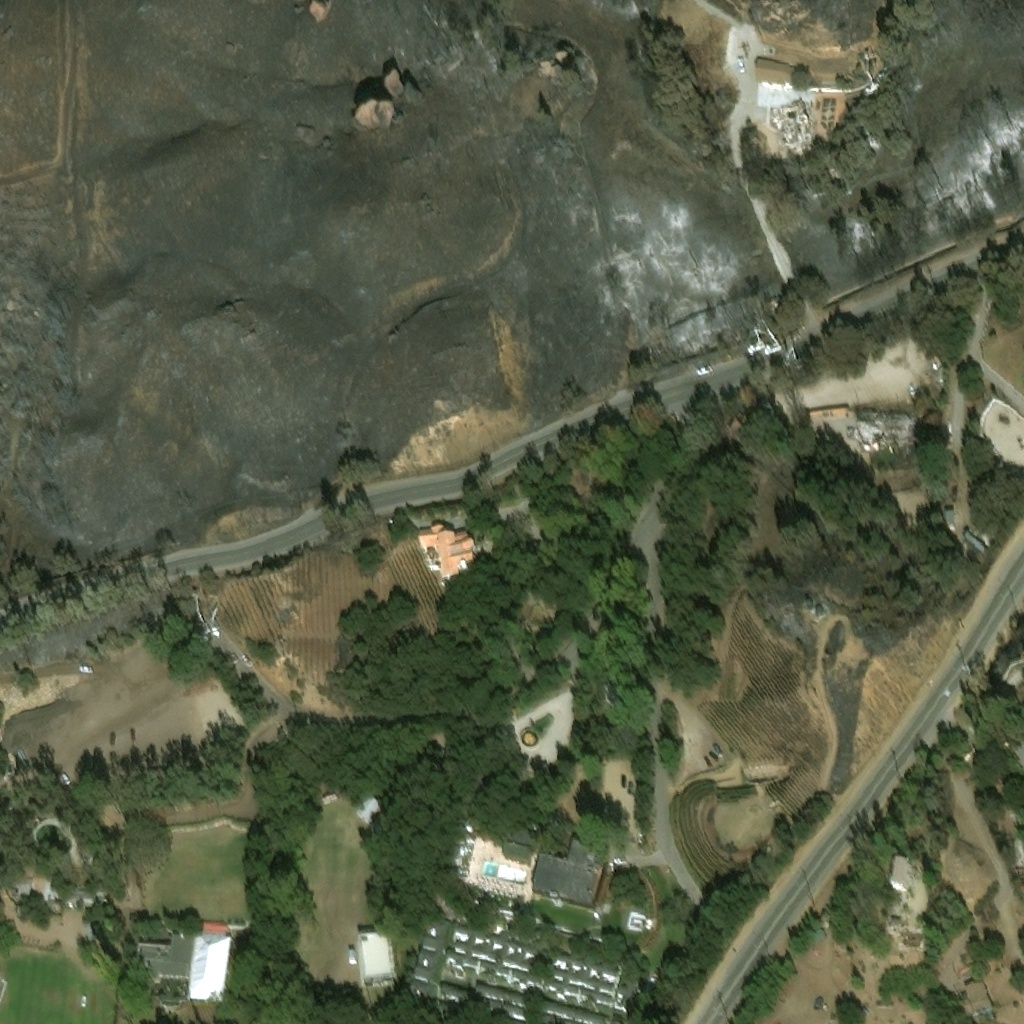0 no-damage: (134, 919, 232, 1006), (445, 919, 549, 986), (474, 980, 607, 1023), (440, 984, 582, 1023), (532, 840, 605, 910), (547, 947, 621, 1003), (417, 524, 477, 585), (354, 930, 397, 984), (437, 1002, 524, 1023), (503, 826, 541, 866), (958, 978, 993, 1018), (755, 56, 800, 84), (594, 680, 620, 727), (17, 877, 56, 908), (350, 791, 381, 822), (423, 918, 450, 953), (415, 949, 442, 983), (988, 809, 1017, 837), (408, 980, 434, 1008), (84, 916, 111, 941), (892, 862, 913, 894), (368, 810, 393, 835), (64, 888, 103, 903), (617, 975, 635, 1007), (21, 921, 44, 946), (962, 529, 986, 551), (626, 908, 643, 927), (906, 935, 923, 952), (1012, 864, 1023, 885), (1013, 744, 1023, 766), (541, 64, 554, 76), (944, 508, 953, 525), (559, 53, 571, 62), (891, 920, 901, 930), (0, 975, 5, 994), (816, 607, 824, 616), (806, 603, 814, 612)
3 destroyed: (769, 95, 826, 149), (855, 403, 925, 430)
